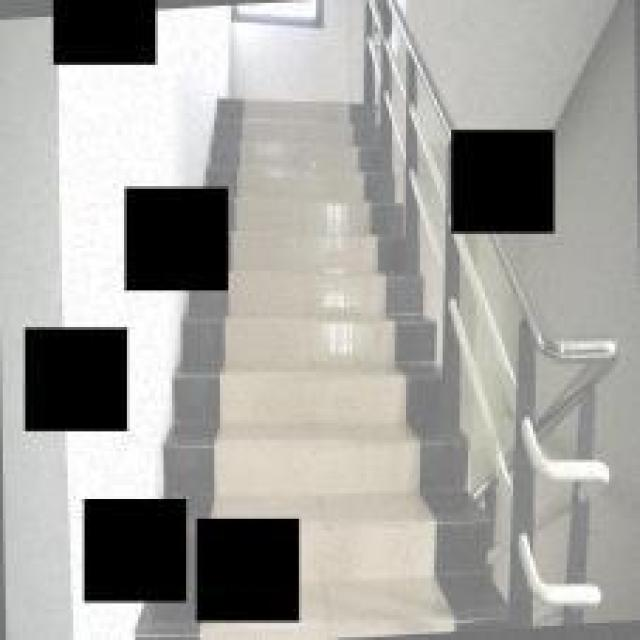upstair: (244, 83, 396, 492)
